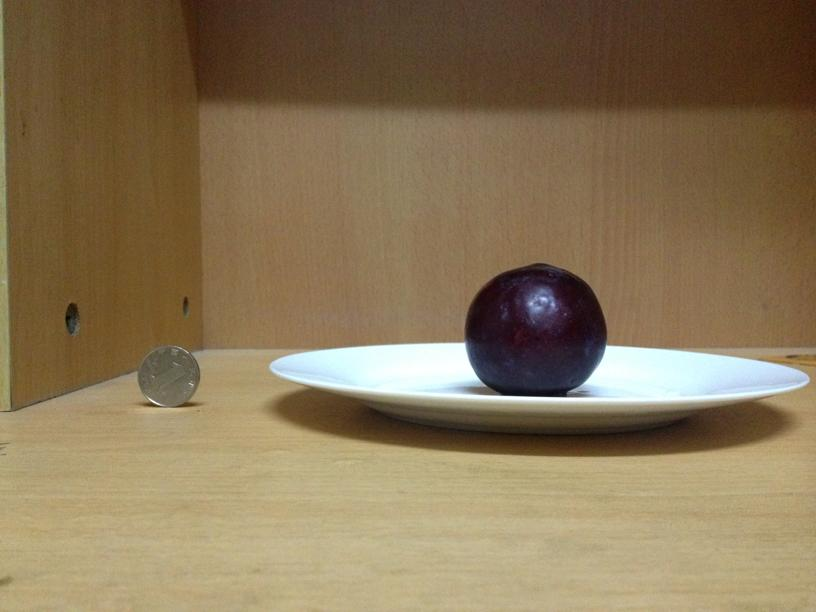coin: (134, 346, 202, 405)
plum: (459, 263, 607, 395)
